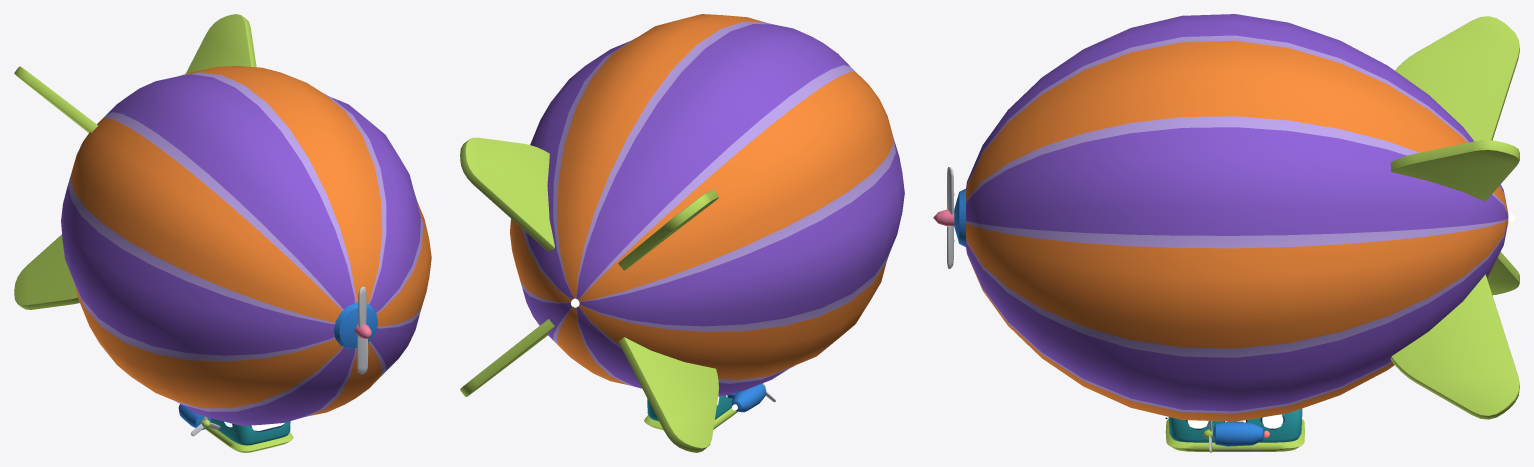
Rendered from dirigivel_laranja_roxo.glb.
3 views of the same model, side by side, from view 1: azimuth 30°, elevation 25°; view 2: azimuth 150°, elevation 25°; view 3: azimuth 270°, elevation 25° (orthographic). The views are drawn at different scales.
Parts seen in each view (by area): view 1: dirigivel_laranja_roxo, helice_nariz; view 2: dirigivel_laranja_roxo; view 3: dirigivel_laranja_roxo, helice_nariz.
Part boxes in pixels (box(x1,y1,x2,y2)): dirigivel_laranja_roxo: box(14, 14, 431, 452); helice_nariz: box(354, 286, 371, 373); dirigivel_laranja_roxo: box(460, 14, 904, 452); dirigivel_laranja_roxo: box(954, 14, 1519, 451); helice_nariz: box(933, 167, 954, 268).
Bounding box in the file's own units: 16.51 × 17.98 × 23.58.
5 materials, 1 textured.
